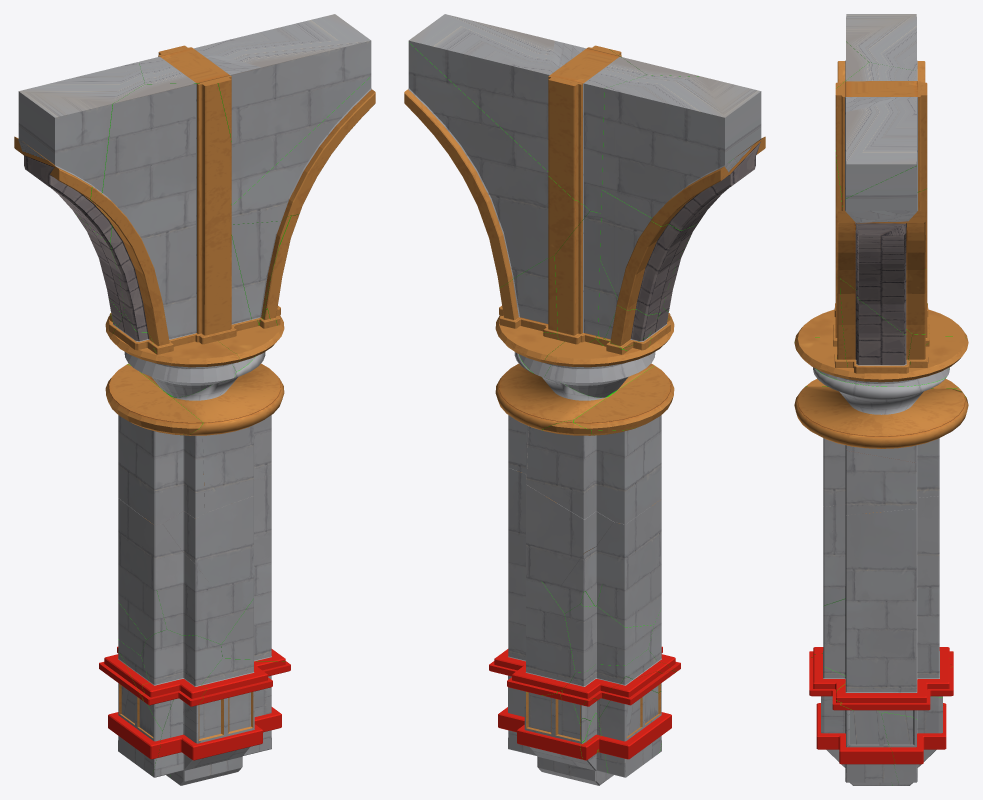
Rendered from SM_WallArchColumn_Broken_00.fbx.
3 views of the same model, side by side, from view 1: azimuth 30°, elevation 25°; view 2: azimuth 150°, elevation 25°; view 3: azimuth 270°, elevation 25° (orthographic). The views are drawn at different scales.
Visible parts, largest first — view 1: SM_WallArchColumn_Broken_16, SM_WallArchColumn_Broken_26, SM_WallArchColumn_Broken_34, SM_WallArchColumn_Broken_00, SM_WallArchColumn_Broken_02, SM_WallArchColumn_Broken_03, SM_WallArchColumn_Broken_25, SM_WallArchColumn_Broken_17, SM_WallArchColumn_Broken_01, SM_WallArchColumn_Broken_13, SM_WallArchColumn_Broken_04, SM_WallArchColumn_Broken_18 (+12 smaller); view 2: SM_WallArchColumn_Broken_26, SM_WallArchColumn_Broken_34, SM_WallArchColumn_Broken_25, SM_WallArchColumn_Broken_02, SM_WallArchColumn_Broken_37, SM_WallArchColumn_Broken_09, SM_WallArchColumn_Broken_03, SM_WallArchColumn_Broken_11, SM_WallArchColumn_Broken_12, SM_WallArchColumn_Broken_30, SM_WallArchColumn_Broken_04, SM_WallArchColumn_Broken_18 (+13 smaller); view 3: SM_WallArchColumn_Broken_09, SM_WallArchColumn_Broken_25, SM_WallArchColumn_Broken_26, SM_WallArchColumn_Broken_03, SM_WallArchColumn_Broken_17, SM_WallArchColumn_Broken_01, SM_WallArchColumn_Broken_00, SM_WallArchColumn_Broken_27, SM_WallArchColumn_Broken_24, SM_WallArchColumn_Broken_34, SM_WallArchColumn_Broken_11, SM_WallArchColumn_Broken_18 (+5 smaller).
Part boxes in pixels (x1=…): SM_WallArchColumn_Broken_16: x1=91, y1=83, x2=277, y2=354; SM_WallArchColumn_Broken_26: x1=139, y1=14, x2=371, y2=205; SM_WallArchColumn_Broken_34: x1=14, y1=62, x2=144, y2=241; SM_WallArchColumn_Broken_00: x1=152, y1=658, x2=290, y2=785; SM_WallArchColumn_Broken_02: x1=118, y1=415, x2=204, y2=525; SM_WallArchColumn_Broken_03: x1=162, y1=474, x2=271, y2=587; SM_WallArchColumn_Broken_25: x1=231, y1=76, x2=375, y2=224; SM_WallArchColumn_Broken_17: x1=140, y1=352, x2=284, y2=435; SM_WallArchColumn_Broken_01: x1=202, y1=415, x2=271, y2=512; SM_WallArchColumn_Broken_13: x1=141, y1=630, x2=222, y2=706; SM_WallArchColumn_Broken_04: x1=118, y1=498, x2=211, y2=591; SM_WallArchColumn_Broken_18: x1=105, y1=316, x2=239, y2=397; SM_WallArchColumn_Broken_26: x1=408, y1=14, x2=646, y2=213; SM_WallArchColumn_Broken_34: x1=602, y1=75, x2=765, y2=230; SM_WallArchColumn_Broken_25: x1=404, y1=42, x2=589, y2=287; SM_WallArchColumn_Broken_02: x1=526, y1=415, x2=661, y2=524; SM_WallArchColumn_Broken_37: x1=600, y1=190, x2=697, y2=315; SM_WallArchColumn_Broken_09: x1=489, y1=562, x2=575, y2=695; SM_WallArchColumn_Broken_03: x1=508, y1=468, x2=613, y2=585; SM_WallArchColumn_Broken_11: x1=498, y1=687, x2=613, y2=785; SM_WallArchColumn_Broken_12: x1=580, y1=670, x2=675, y2=777; SM_WallArchColumn_Broken_30: x1=554, y1=211, x2=601, y2=344; SM_WallArchColumn_Broken_04: x1=561, y1=499, x2=661, y2=591; SM_WallArchColumn_Broken_18: x1=544, y1=316, x2=674, y2=397; SM_WallArchColumn_Broken_09: x1=823, y1=586, x2=953, y2=718; SM_WallArchColumn_Broken_25: x1=837, y1=166, x2=927, y2=334; SM_WallArchColumn_Broken_26: x1=835, y1=62, x2=927, y2=210; SM_WallArchColumn_Broken_03: x1=823, y1=496, x2=939, y2=600; SM_WallArchColumn_Broken_17: x1=794, y1=369, x2=968, y2=448; SM_WallArchColumn_Broken_01: x1=823, y1=438, x2=939, y2=515; SM_WallArchColumn_Broken_00: x1=809, y1=654, x2=897, y2=785; SM_WallArchColumn_Broken_27: x1=840, y1=278, x2=912, y2=373; SM_WallArchColumn_Broken_24: x1=794, y1=336, x2=968, y2=386; SM_WallArchColumn_Broken_34: x1=837, y1=14, x2=925, y2=82; SM_WallArchColumn_Broken_11: x1=881, y1=664, x2=953, y2=785; SM_WallArchColumn_Broken_18: x1=794, y1=309, x2=967, y2=370.
Bounding box in the file's own units: 4 × 8.48 × 1.96.
